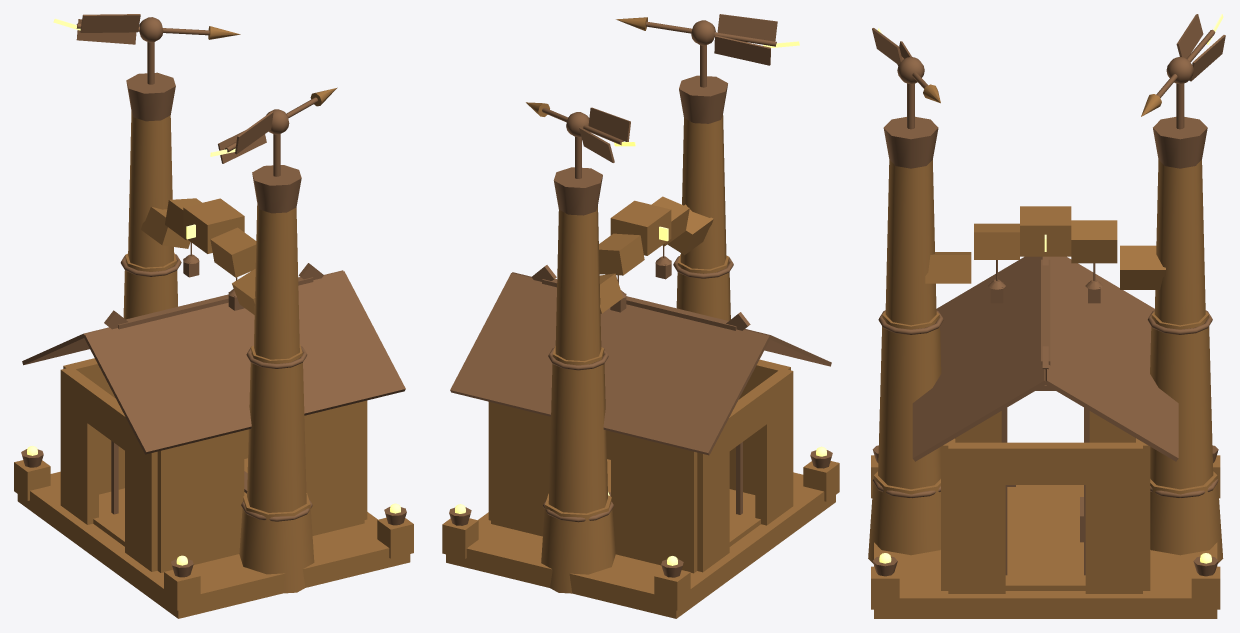
Rendered from shrine-last-horizon.glb.
3 views of the same model, side by side, from view 1: azimuth 30°, elevation 25°; view 2: azimuth 150°, elevation 25°; view 3: azimuth 270°, elevation 25° (orthographic). The views are drawn at different scales.
Visible parts, largest first — view 1: Mesh_RoofA, Mesh_PlatformBase, Mesh_ShrineChamber_WallRight_L, Mesh_PillarMid_1, Mesh_ShrineChamber_WallRight_R, Mesh_PillarTop_1, Mesh_PillarTop_-1, Mesh_ShrineChamber_WallBack_L, Mesh_PillarBase_1, Mesh_ShrineChamber_WallBack_R, Mesh_PillarMid_-1, Mesh_Arch_C (+18 smaller); view 2: Mesh_RoofB, Mesh_PlatformBase, Mesh_ShrineChamber_WallLeft_L, Mesh_PillarMid_-1, Mesh_ShrineChamber_WallLeft_R, Mesh_PillarTop_-1, Mesh_PillarTop_1, Mesh_ShrineChamber_WallBack_R, Mesh_PillarBase_-1, Mesh_ShrineChamber_WallBack_L, Mesh_PillarMid_1, Mesh_Arch_C (+19 smaller); view 3: Mesh_RoofB, Mesh_RoofA, Mesh_PlatformBase, Mesh_ShrineChamber_WallFront_L, Mesh_ShrineChamber_WallFront_R, Mesh_PillarMid_-1, Mesh_PillarMid_1, Mesh_ShrineChamber_Floor, Mesh_PillarTop_1, Mesh_PillarTop_-1, Mesh_PillarBase_-1, Mesh_PillarBase_1 (+21 smaller).
Boxes of the visible parts, x1,y1,x2,y2 form: Mesh_RoofA: (84, 271, 405, 454); Mesh_PlatformBase: (17, 471, 410, 618); Mesh_ShrineChamber_WallRight_L: (157, 430, 244, 572); Mesh_PillarMid_1: (247, 344, 306, 512); Mesh_ShrineChamber_WallRight_R: (304, 401, 364, 535); Mesh_PillarTop_1: (254, 204, 299, 359); Mesh_PillarTop_-1: (128, 111, 173, 267); Mesh_ShrineChamber_WallBack_L: (60, 368, 98, 524); Mesh_PillarBase_1: (239, 493, 314, 593); Mesh_ShrineChamber_WallBack_R: (125, 417, 157, 571); Mesh_PillarMid_-1: (123, 252, 177, 319); Mesh_Arch_C: (183, 198, 244, 253); Mesh_RoofB: (450, 273, 770, 455); Mesh_PlatformBase: (446, 472, 835, 618); Mesh_ShrineChamber_WallLeft_L: (611, 431, 697, 573); Mesh_PillarMid_-1: (548, 346, 607, 513); Mesh_ShrineChamber_WallLeft_R: (491, 402, 550, 536); Mesh_PillarTop_-1: (555, 206, 601, 360); Mesh_PillarTop_1: (680, 114, 726, 269); Mesh_ShrineChamber_WallBack_R: (755, 368, 793, 525); Mesh_PillarBase_-1: (541, 493, 615, 593); Mesh_ShrineChamber_WallBack_L: (697, 418, 729, 572); Mesh_PillarMid_1: (676, 254, 730, 320); Mesh_Arch_C: (610, 200, 671, 255); Mesh_RoofB: (1045, 256, 1178, 461); Mesh_RoofA: (912, 256, 1046, 461); Mesh_PlatformBase: (874, 542, 1217, 618); Mesh_ShrineChamber_WallFront_L: (1085, 442, 1142, 593); Mesh_ShrineChamber_WallFront_R: (948, 442, 1005, 593); Mesh_PillarMid_-1: (1150, 311, 1213, 489); Mesh_PillarMid_1: (878, 311, 941, 489); Mesh_ShrineChamber_Floor: (1005, 485, 1085, 590); Mesh_PillarTop_1: (885, 160, 936, 325); Mesh_PillarTop_-1: (1154, 160, 1205, 325); Mesh_PillarBase_-1: (1150, 471, 1223, 563); Mesh_PillarBase_1: (868, 471, 940, 563).
Size of the model in its own units: 5.6 by 9.89 by 6.25.
